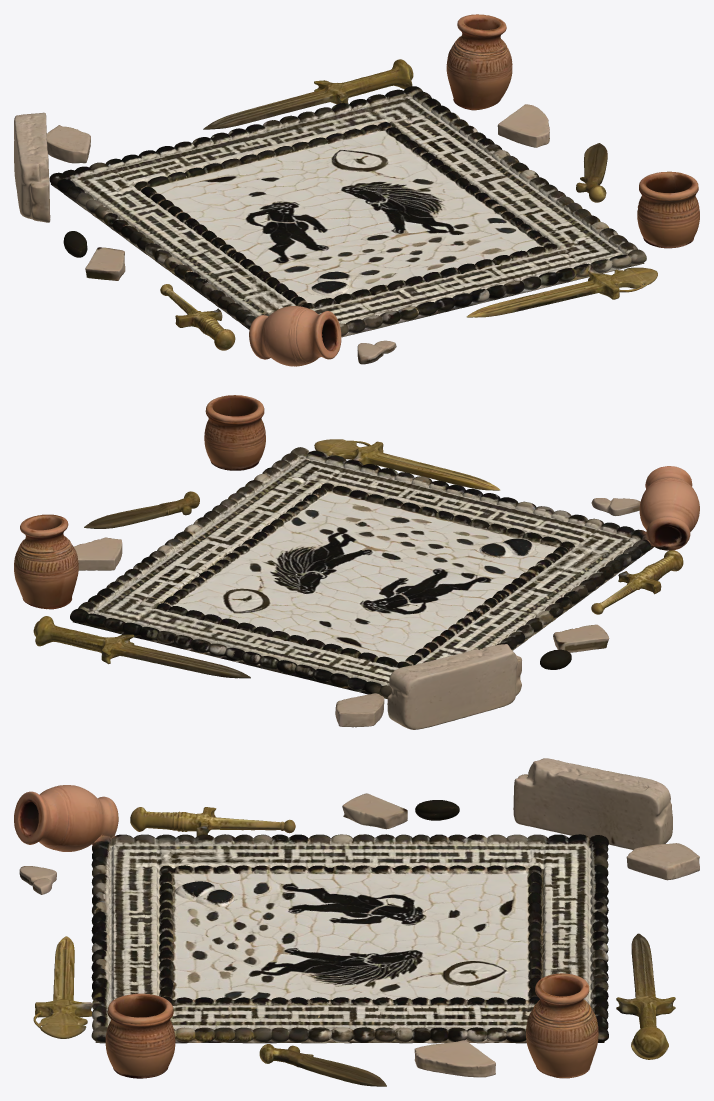
The model's file is pella_mosaic.glb.
3 views of the same model, one above another, from view 1: azimuth 30°, elevation 25°; view 2: azimuth 150°, elevation 25°; view 3: azimuth 270°, elevation 25° (orthographic). The views are drawn at different scales.
Parts seen in each view (by area): view 1: node_0; view 2: node_0; view 3: node_0.
Part boxes in pixels (left/top/right/bottom): node_0: left=14, top=14, right=699, bottom=366; node_0: left=14, top=395, right=699, bottom=729; node_0: left=14, top=758, right=699, bottom=1086.
Size of the model in its own units: 0.9568 by 0.1523 by 0.9803.
1 material, 1 textured.
